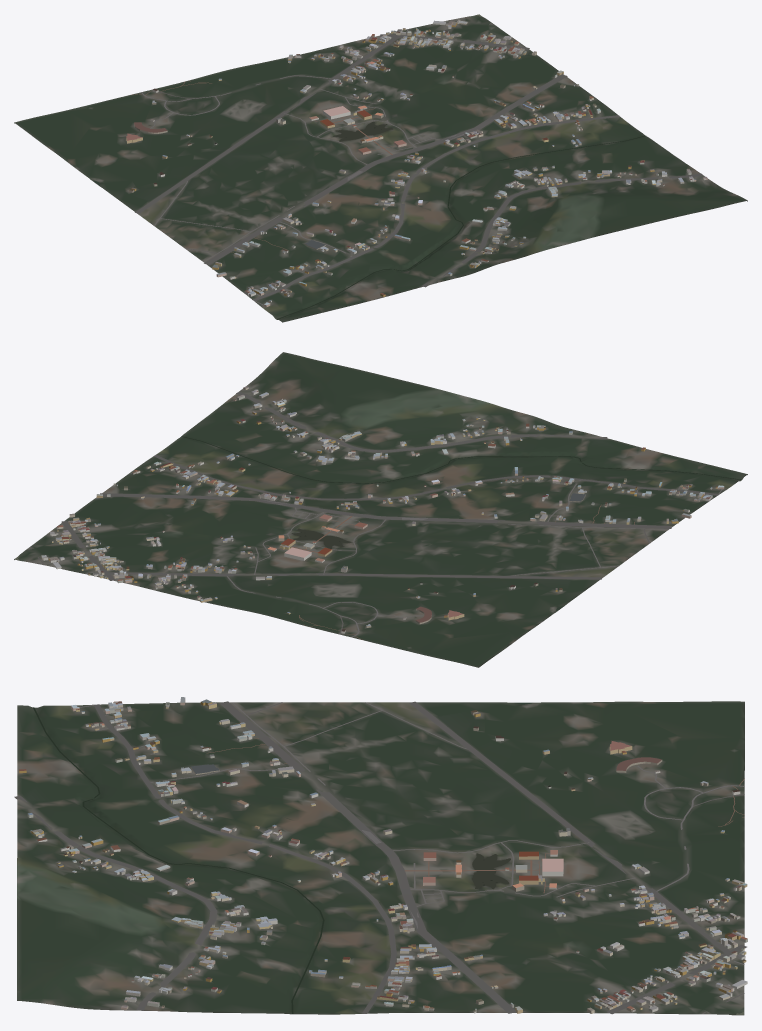
3 views of the same model, one above another, from view 1: azimuth 30°, elevation 25°; view 2: azimuth 150°, elevation 25°; view 3: azimuth 270°, elevation 25° (orthographic). The views are drawn at different scales.
Visible parts, largest first — view 1: ground, buildings, roads, water; view 2: ground, buildings, roads, water; view 3: ground, buildings, roads, water.
Boxes of the visible parts, x1,y1,x2,y2 form: ground: [14, 14, 747, 322]; buildings: [126, 19, 707, 307]; roads: [131, 20, 702, 305]; water: [92, 14, 645, 319]; ground: [14, 352, 747, 667]; buildings: [41, 386, 724, 633]; roads: [29, 391, 722, 639]; water: [15, 436, 741, 611]; ground: [17, 701, 744, 1015]; buildings: [19, 697, 747, 1013]; roads: [14, 701, 746, 1014]; water: [33, 702, 743, 1014].
Bounding box in the file's own units: 1417 × 36.4 × 1413.
